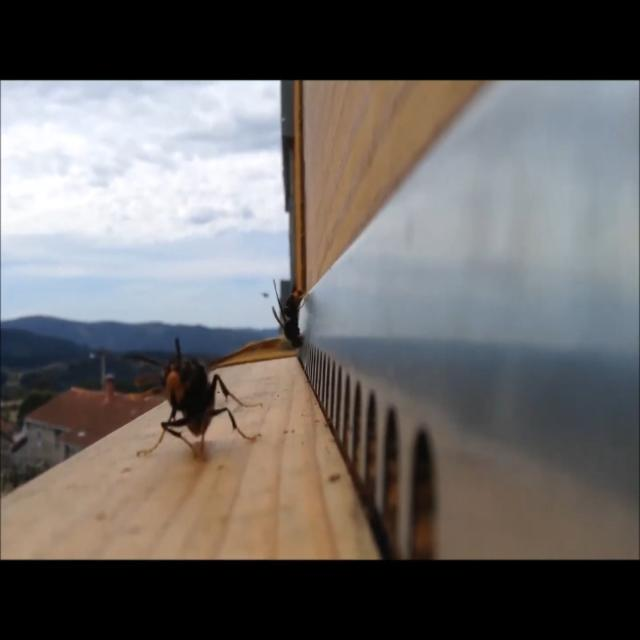Hornets: (108, 332, 266, 460), (271, 276, 308, 354)
